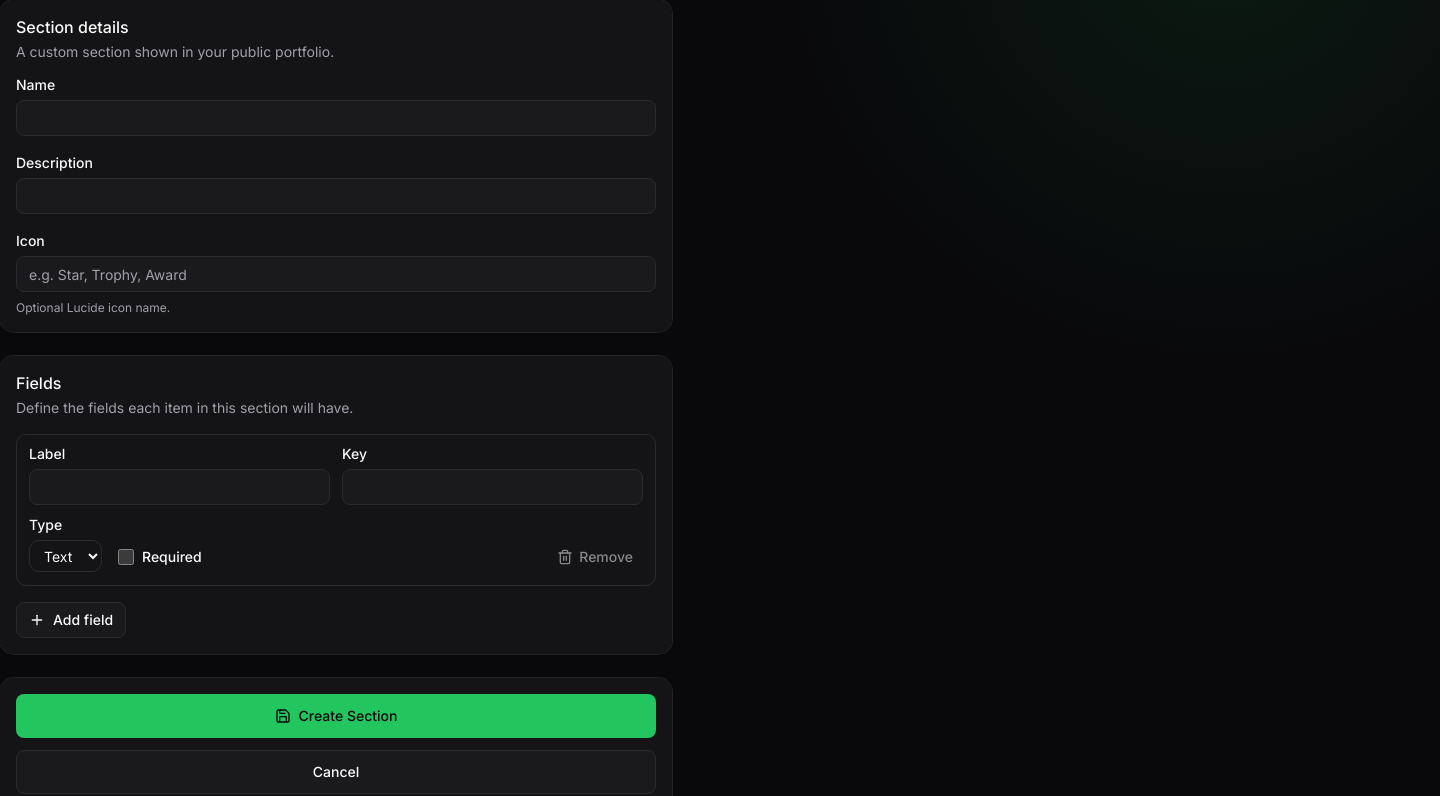
Scenario: SectionForm › shows a root error when submission fails
The image size is (1440, 796).
Type "Awards" into the field named "Section name". click: (336, 118)
box: [16,100,656,136]
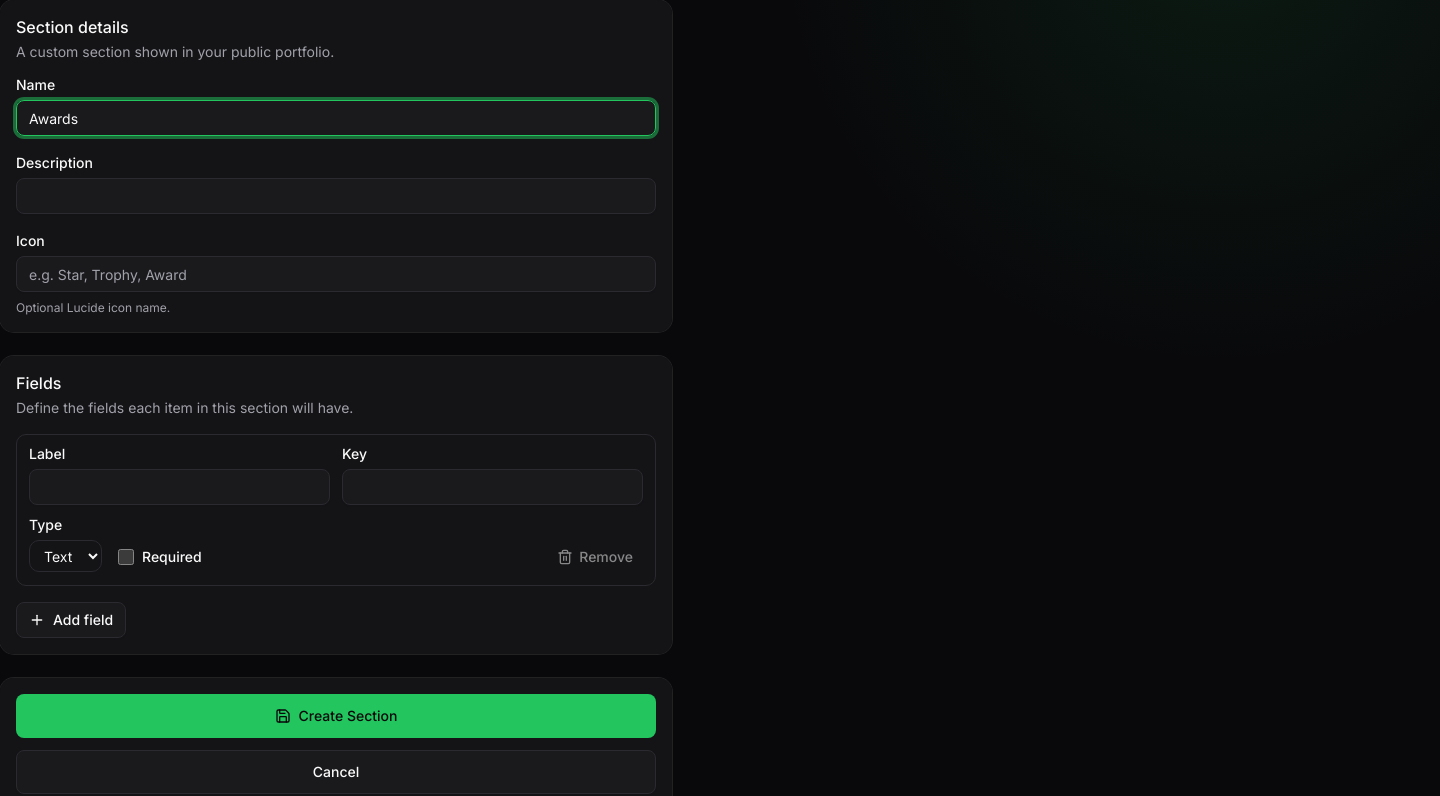
Type "Title" into the field named "Field label". click: (180, 487)
box: [29,469,330,505]
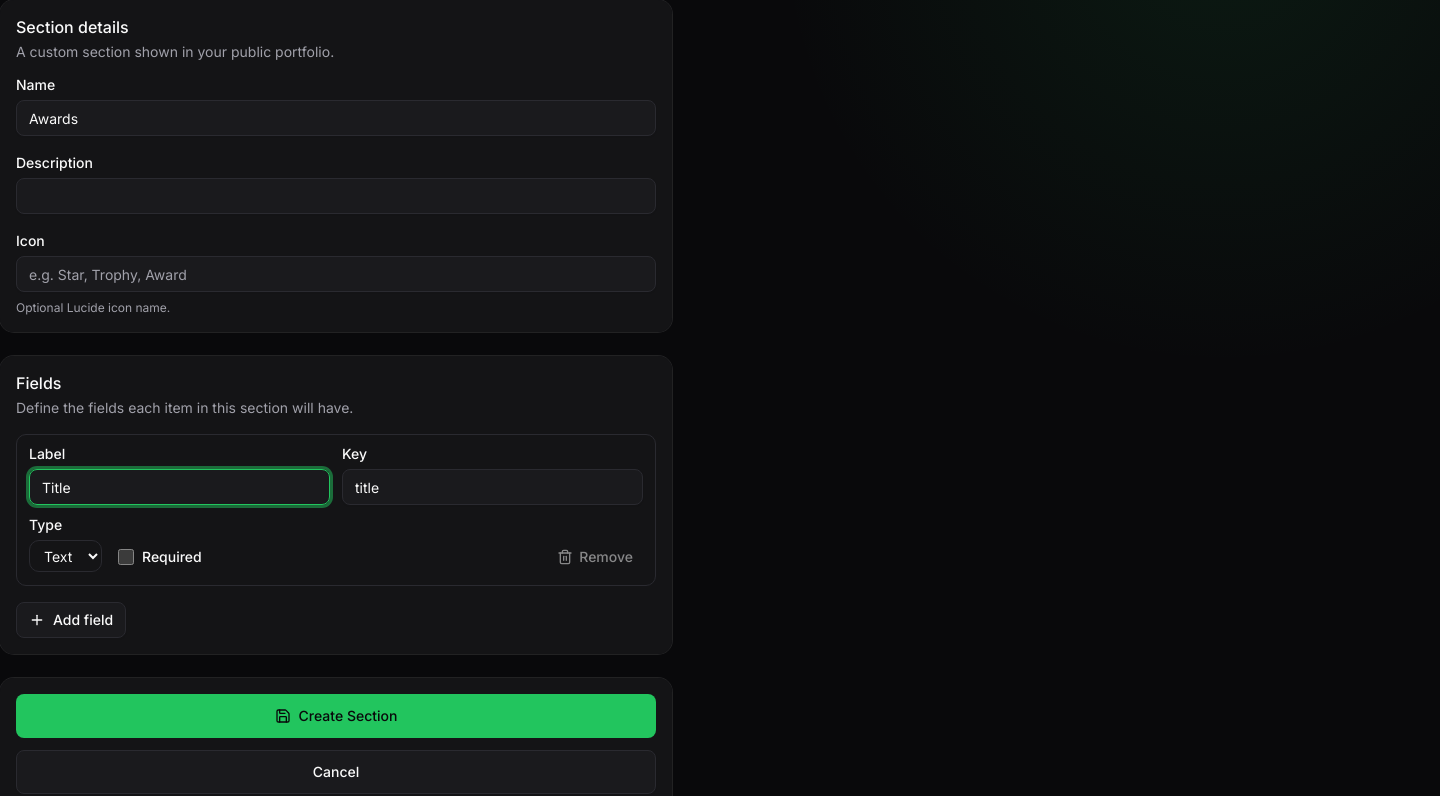
Click the button "Create Section". click: (336, 716)
box: [16,694,656,738]
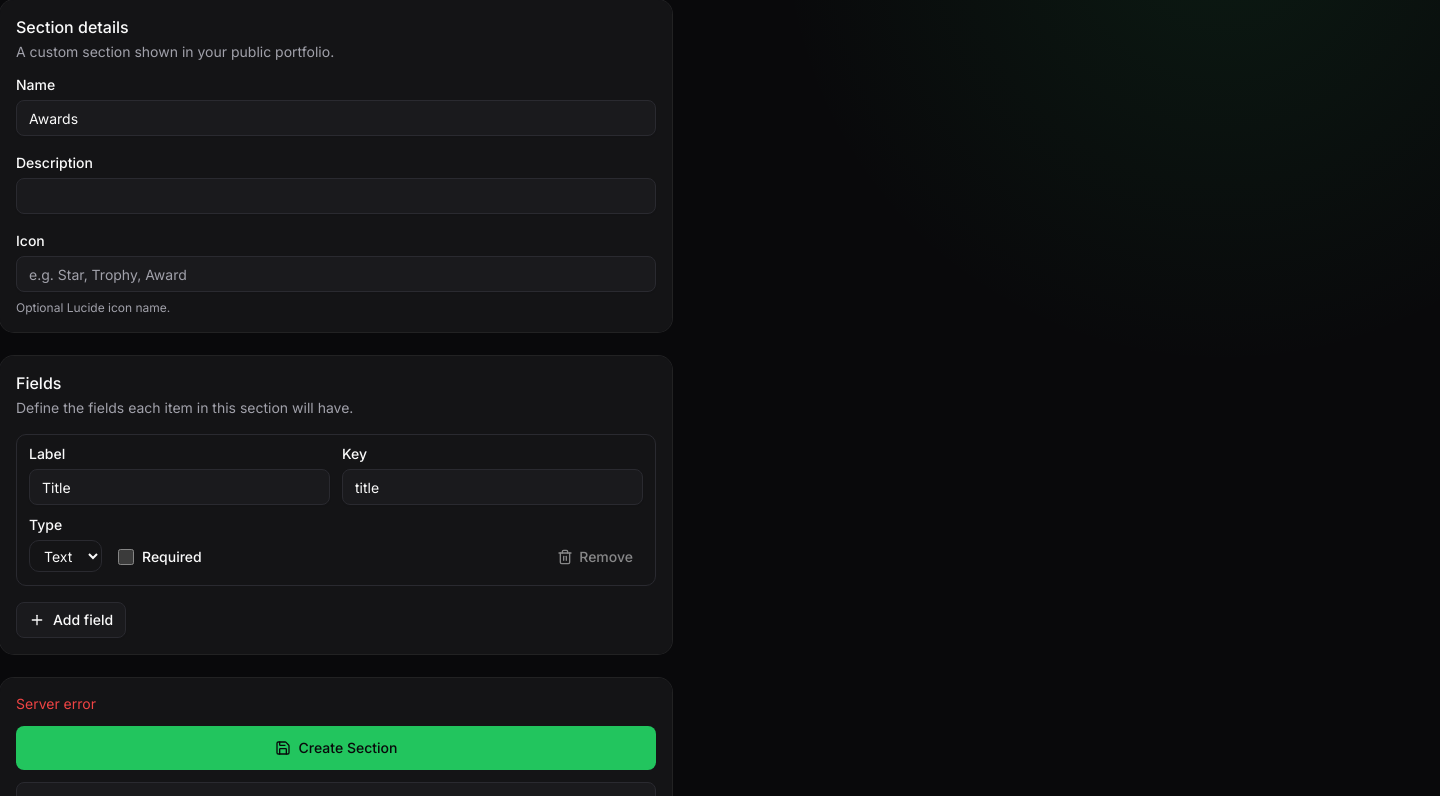
Expected: the message reads "Server error", [16,695,96,712]
